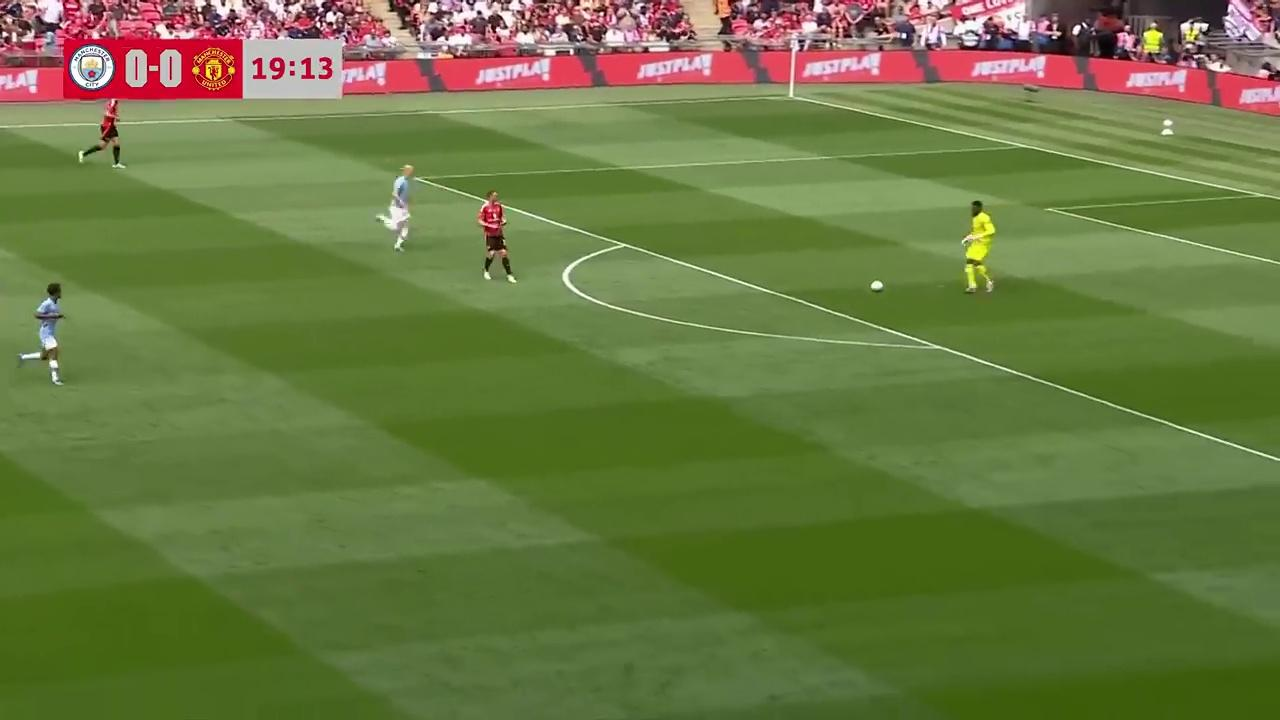ball: (868, 277, 884, 293)
player: (18, 282, 66, 386), (477, 191, 517, 283), (378, 164, 416, 256), (78, 98, 125, 169), (962, 201, 995, 295)
